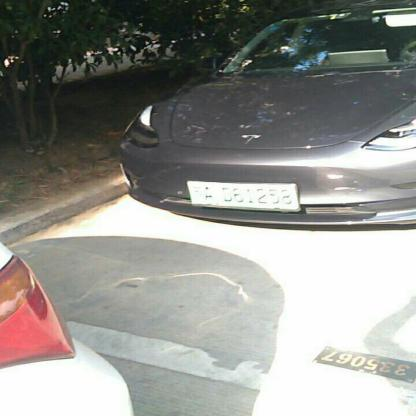lp: (186, 181, 298, 210)
